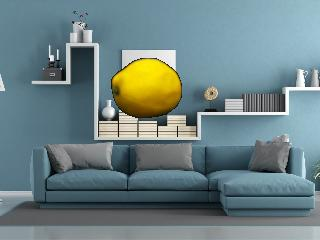lemon: (112, 59, 181, 117)
